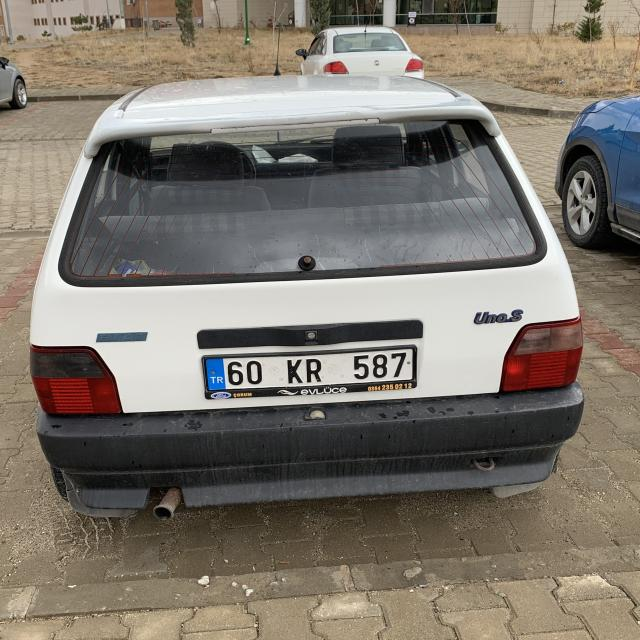license_plate: (203, 349, 414, 390)
